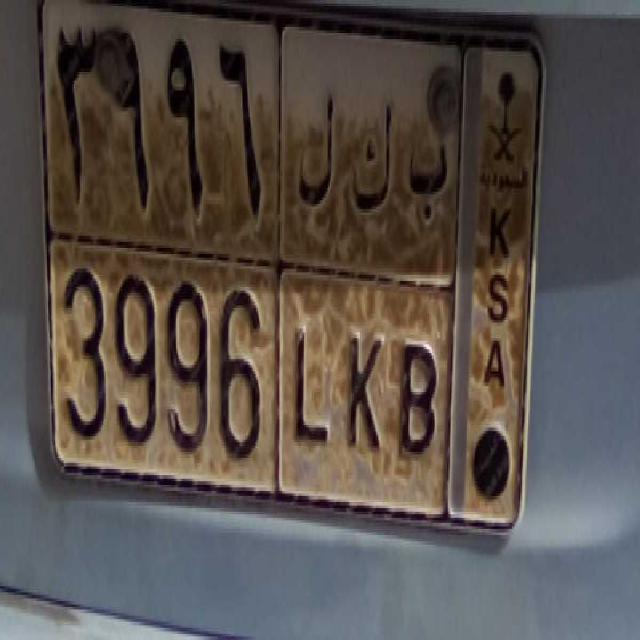license_plate: (52, 230, 448, 499)
